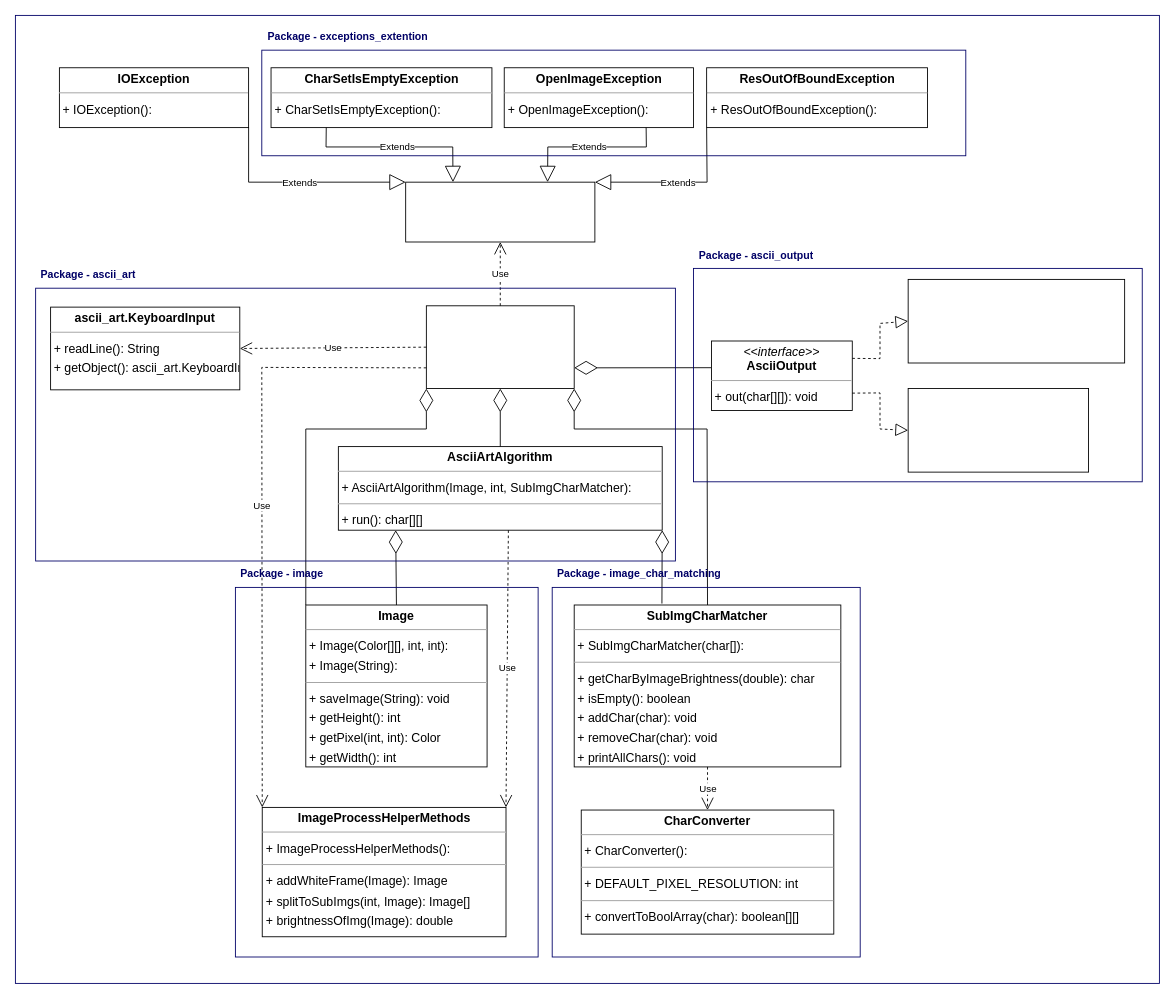
This 1175x999 diagram has some shape labels left out. Each missing label, with the centre of its shape:
"ConsoleAsciiOutput + ConsoleAsciiOutput(): + out(char[][]): void" belongs at [998,430].
"Exception + Exception():" belongs at [500,211].
"HtmlAsciiOutput + HtmlAsciiOutput(String, String): + out(char[][]): void" belongs at [1016,321].
"Shell + main(String[]): void + run(): void" belongs at [499,347].
